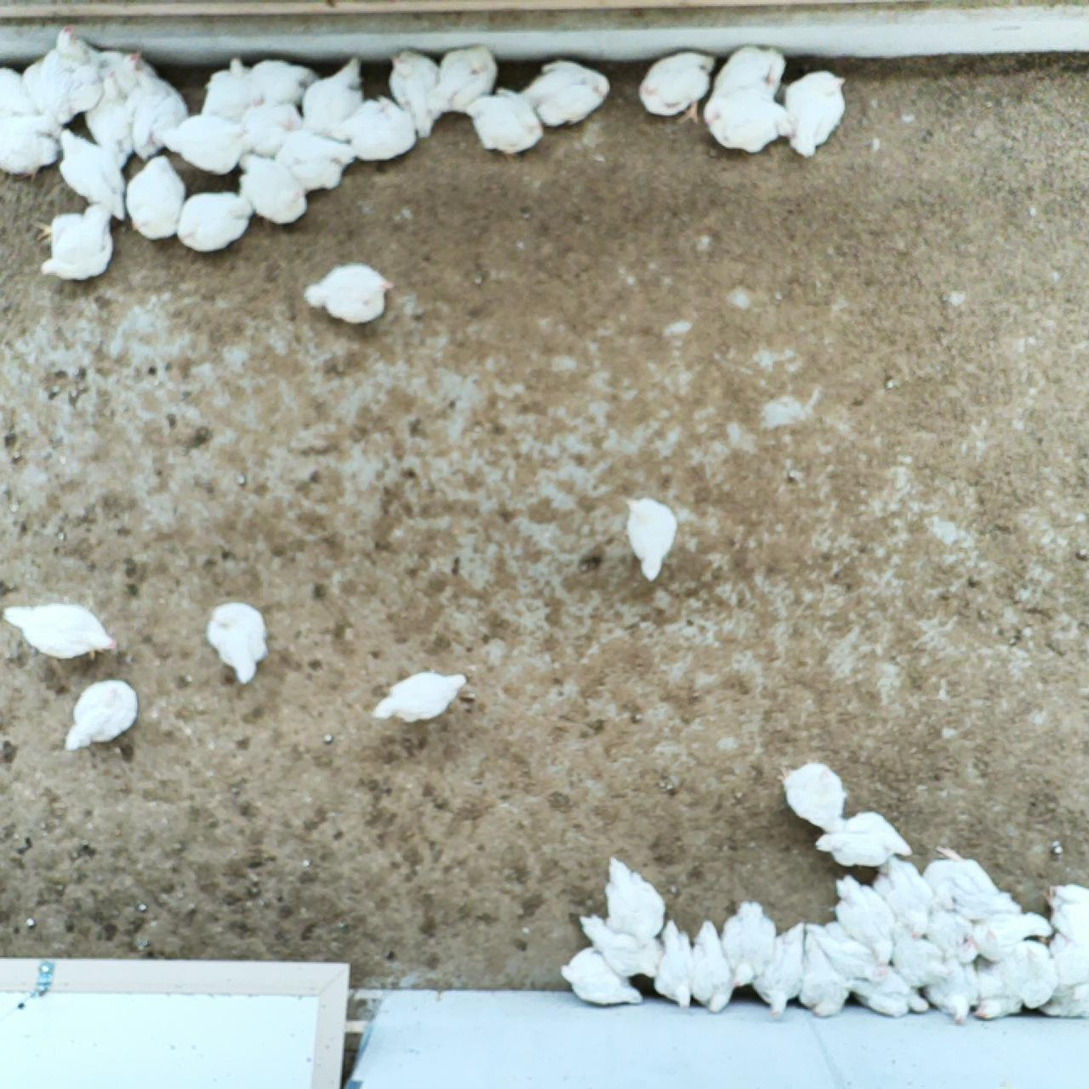chicken: (0, 596, 121, 665), (26, 22, 105, 121), (923, 842, 1023, 920), (54, 124, 128, 223), (33, 200, 118, 286), (302, 258, 396, 333), (634, 46, 718, 129), (324, 92, 419, 165), (517, 59, 613, 131), (778, 66, 851, 160), (597, 852, 670, 945), (831, 870, 900, 968), (811, 806, 915, 871), (149, 111, 251, 177), (60, 676, 142, 757), (203, 596, 271, 691), (122, 151, 192, 243), (368, 666, 473, 727), (125, 69, 192, 161), (384, 42, 444, 143), (717, 895, 778, 994), (773, 756, 852, 832), (560, 941, 642, 1014), (748, 919, 807, 1020), (702, 94, 793, 159), (465, 85, 545, 158), (620, 490, 681, 585), (236, 149, 308, 229), (577, 910, 662, 977), (175, 187, 256, 254), (872, 852, 933, 940), (684, 917, 737, 1016), (81, 69, 135, 166), (966, 908, 1056, 966), (433, 41, 503, 115), (279, 131, 357, 196), (650, 917, 702, 1014), (311, 52, 369, 138), (807, 919, 885, 982), (711, 42, 790, 103), (0, 108, 63, 182), (797, 932, 846, 1021), (198, 53, 258, 125), (889, 918, 949, 987), (851, 968, 932, 1018), (243, 56, 315, 112), (1006, 941, 1062, 1012), (92, 45, 154, 100), (1041, 881, 1089, 949), (972, 957, 1020, 1023), (243, 102, 304, 153), (926, 907, 976, 960), (0, 63, 32, 112)
